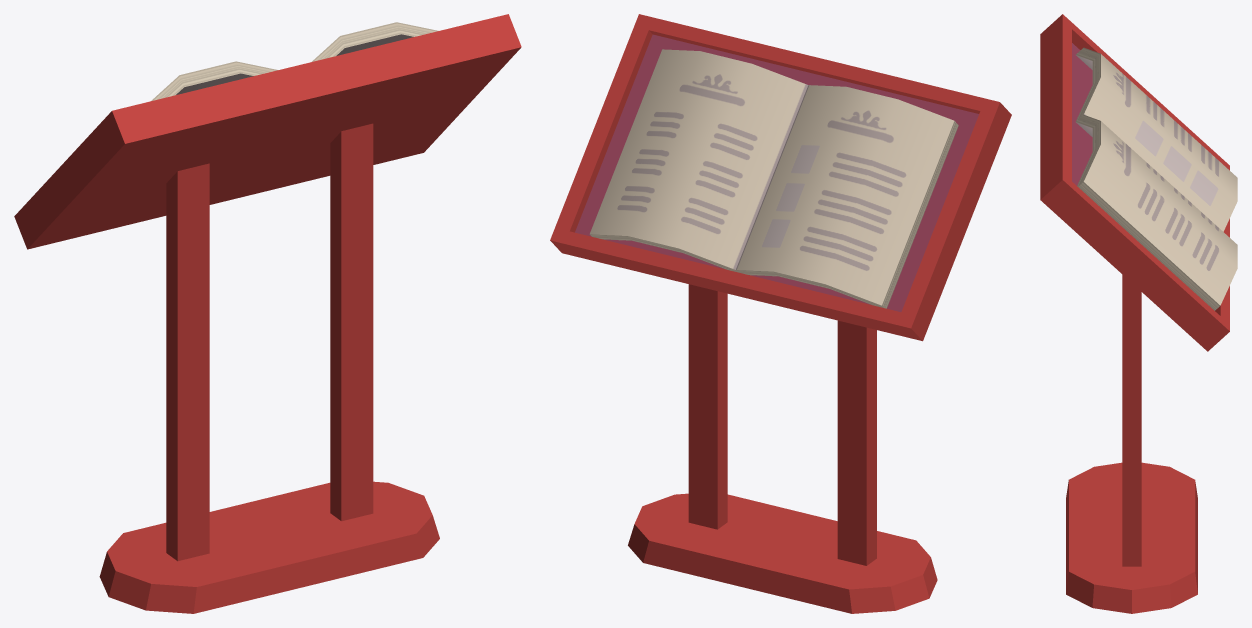
Rendered from MenuSign_geo.fbx.
The picture shows the model from 3 angles, left to right: view 1: azimuth 30°, elevation 25°; view 2: azimuth 150°, elevation 25°; view 3: azimuth 270°, elevation 25°; orthographic projection. The views are drawn at different scales.
Visible parts, largest first — view 1: MenuSign_geo, MenuSign_holder_geo, Menu_geo; view 2: Menu_geo, MenuSign_geo, MenuSign_holder_geo; view 3: Menu_geo, MenuSign_geo, MenuSign_holder_geo.
Part boxes in pixels (<box>): MenuSign_geo: <box>99,123,439,613</box>; MenuSign_holder_geo: <box>14,14,521,249</box>; Menu_geo: <box>151,22,438,100</box>; Menu_geo: <box>589,49,958,308</box>; MenuSign_geo: <box>628,284,937,613</box>; MenuSign_holder_geo: <box>550,14,1011,341</box>; Menu_geo: <box>1075,47,1237,310</box>; MenuSign_geo: <box>1066,275,1197,613</box>; MenuSign_holder_geo: <box>1040,14,1229,351</box>.
Size of the model in its own units: 0.9865 by 0.4961 by 1.25.
